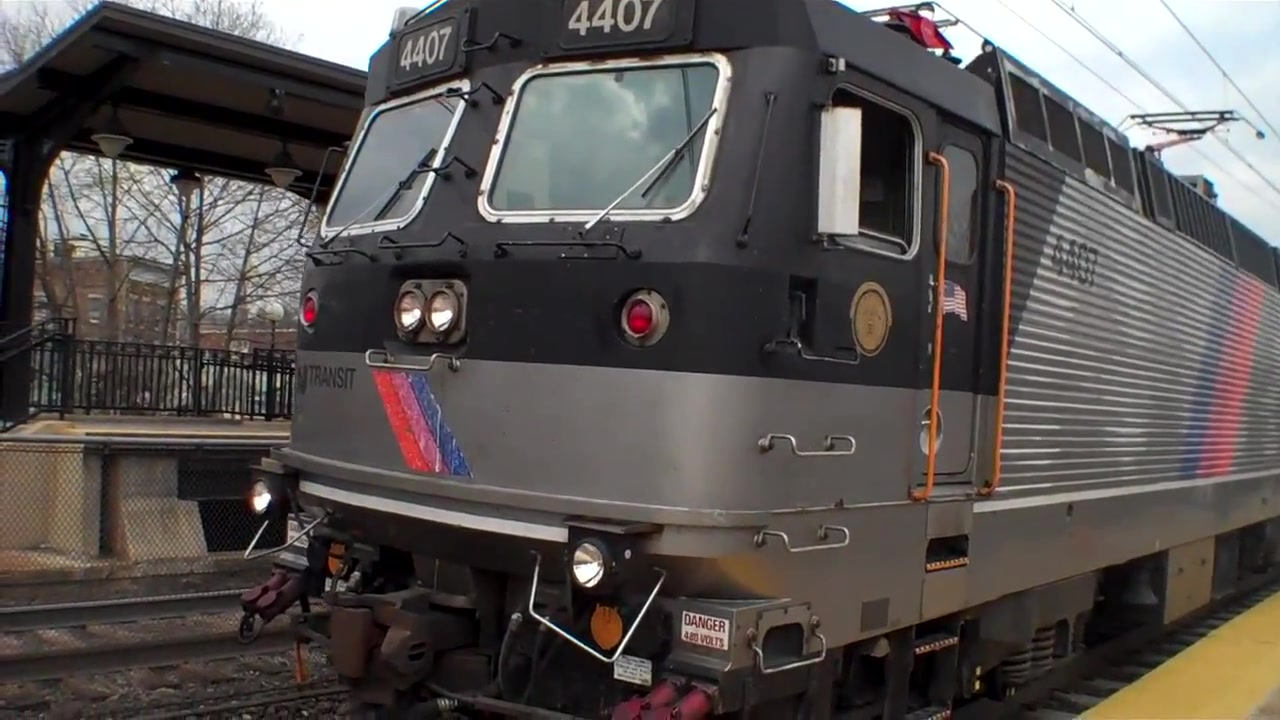train: (241, 1, 1280, 718)
